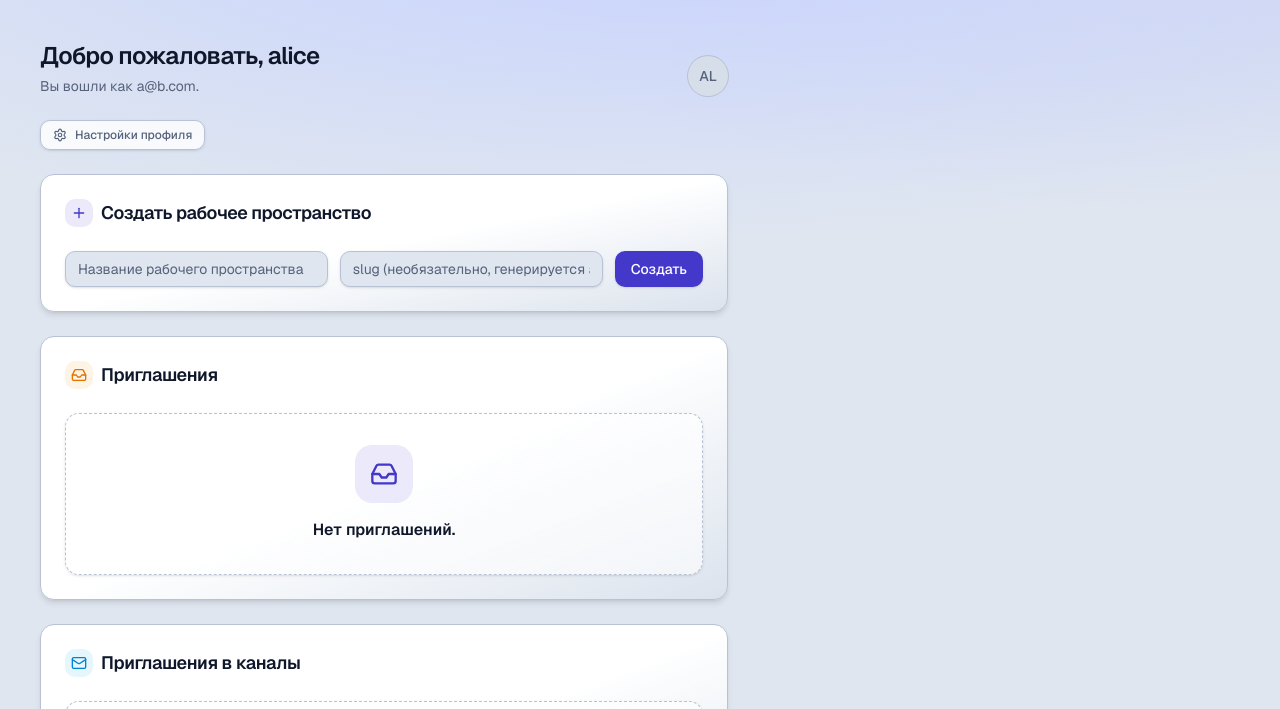
Test case: DashboardPage — interface language › shows Russian validation error for empty workspace name
The image size is (1280, 709).
Click the button "Создать": (659, 269) [615, 251, 703, 287]
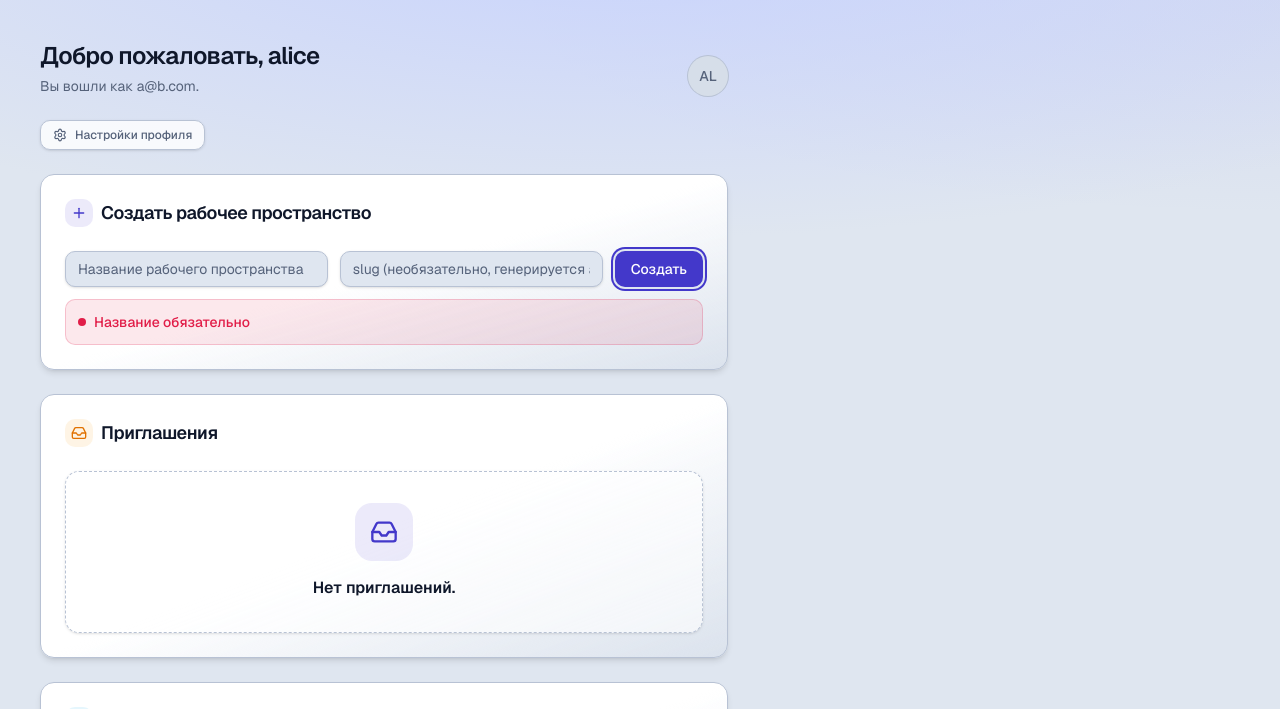
Result: the text "Название обязательно" is shown at [78, 313, 250, 331]
